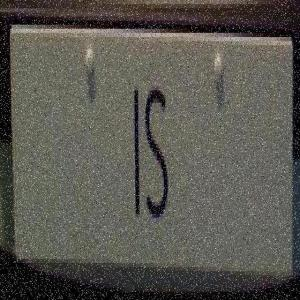Plate: (7, 21, 296, 273)
